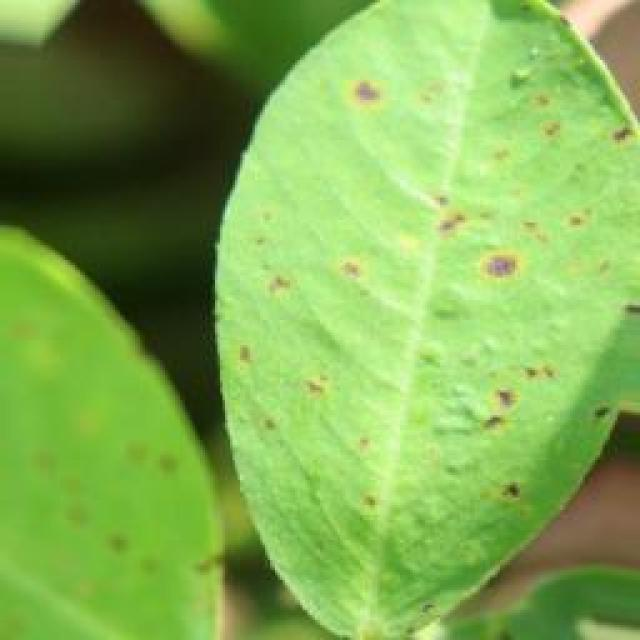Sigatoka: (449, 314, 615, 518), (434, 87, 629, 259), (380, 198, 528, 312), (212, 349, 376, 451), (239, 217, 382, 325), (297, 62, 427, 154)
